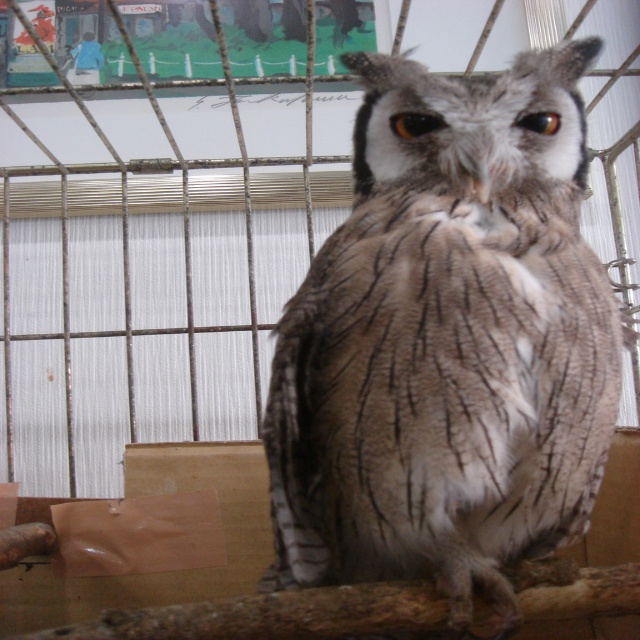Owl: (261, 29, 632, 604)
